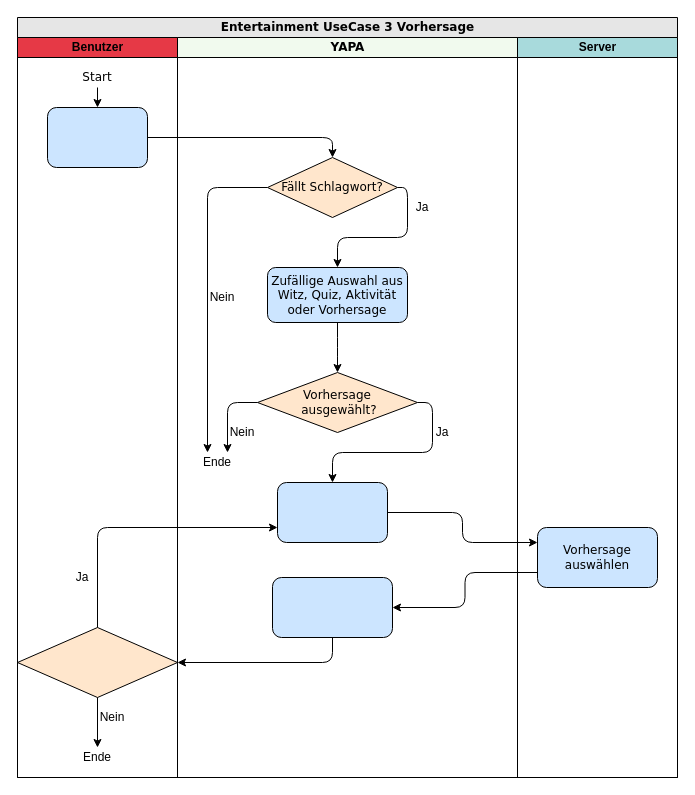
Image size: 695x795. Some labels were removed from this diagram. Each missing label, with the centre of its shape:
Anfrage: pixel 97 137
Vorhersage abfragen (Anfrage an Server): pixel 332 512
Vorhersage ausgeben: pixel 332 607
Weitere Vorhersage erwünscht?: pixel 97 662
